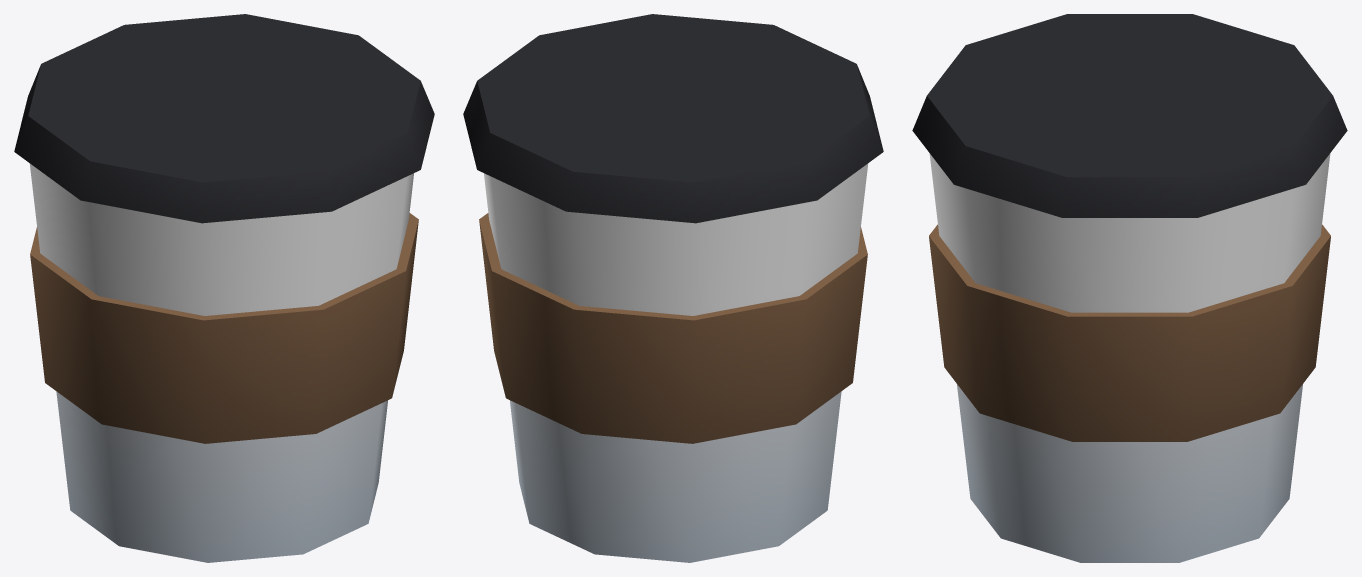
Rendered from dt_coffee_cup.fbx.
The picture shows the model from 3 angles, left to right: view 1: azimuth 30°, elevation 25°; view 2: azimuth 150°, elevation 25°; view 3: azimuth 270°, elevation 25°; orthographic projection.
Visible parts, largest first — view 1: dt_coffee_cup; view 2: dt_coffee_cup; view 3: dt_coffee_cup.
Part boxes in pixels (<box>): dt_coffee_cup: <box>14,14,434,562</box>; dt_coffee_cup: <box>463,14,883,562</box>; dt_coffee_cup: <box>912,14,1347,562</box>.
Size of the model in its own units: 65.13 by 70 by 68.48.
